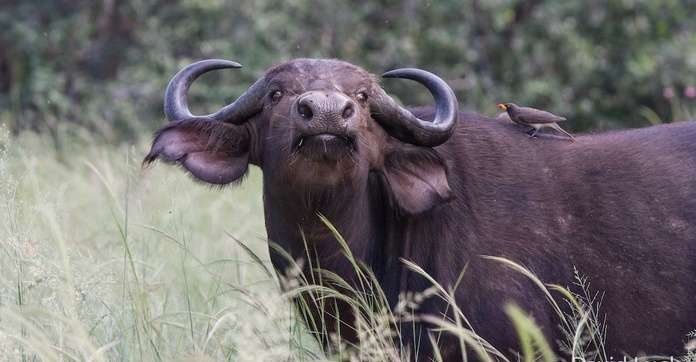bird: (495, 96, 579, 141)
buffalo: (136, 43, 695, 361)
